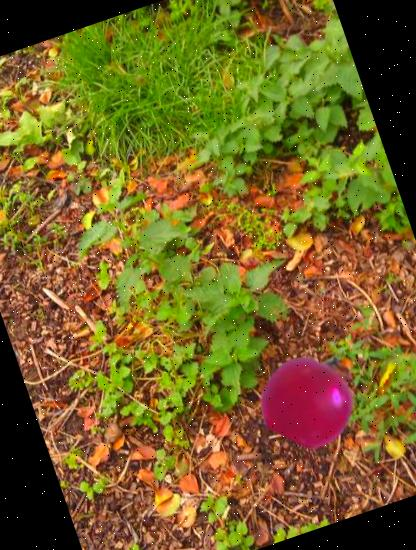Redcurrant: (250, 335, 371, 456)
